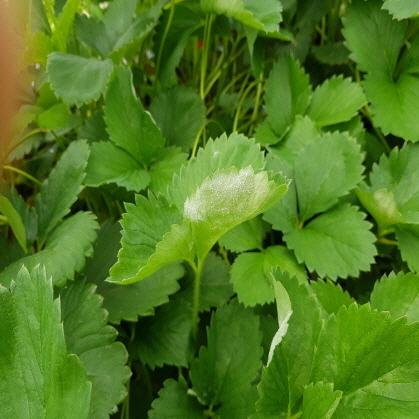Powdery Mildew Leaf: (245, 263, 324, 418), (182, 163, 295, 271), (166, 129, 266, 215)
